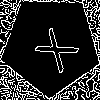X: (25, 20, 80, 74)
